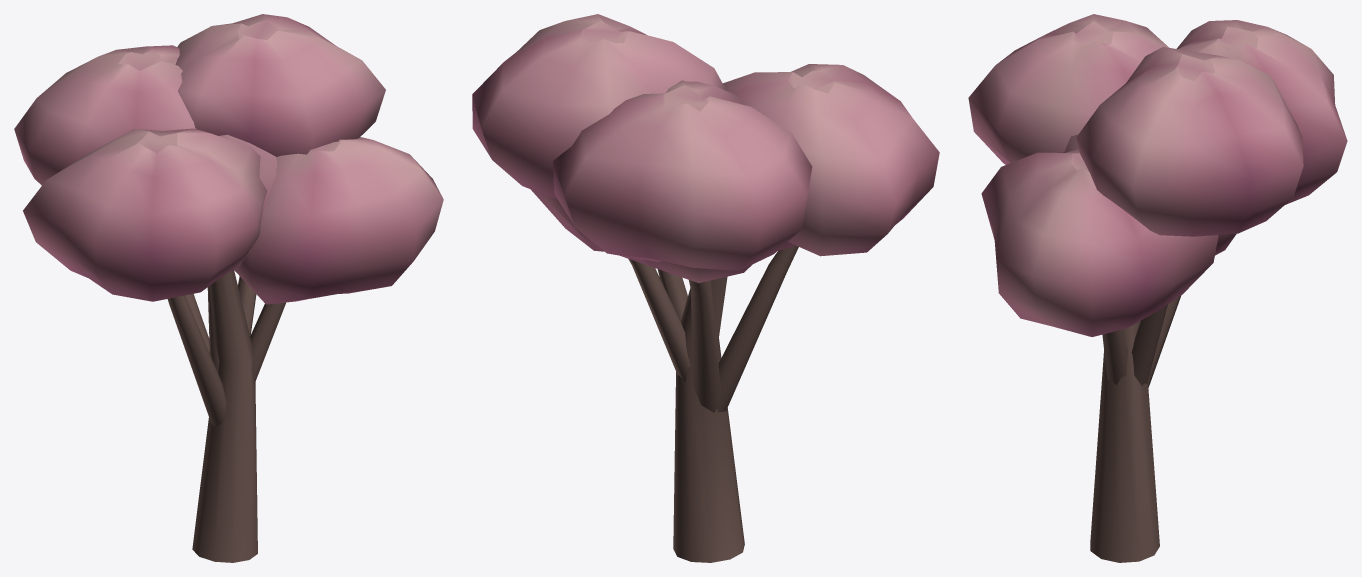
File: japan_foliage.glb
The picture shows the model from 3 angles, left to right: view 1: azimuth 30°, elevation 25°; view 2: azimuth 150°, elevation 25°; view 3: azimuth 270°, elevation 25°; orthographic projection. The views are drawn at different scales.
Parts seen in each view (by area): view 1: JapanFoliage; view 2: JapanFoliage; view 3: JapanFoliage.
Part boxes in pixels (x1,y1,x2,y2): JapanFoliage: (14,14,443,562); JapanFoliage: (472,14,939,562); JapanFoliage: (968,14,1347,562).
Bounding box in the file's own units: 2.9 × 3.54 × 2.35.
